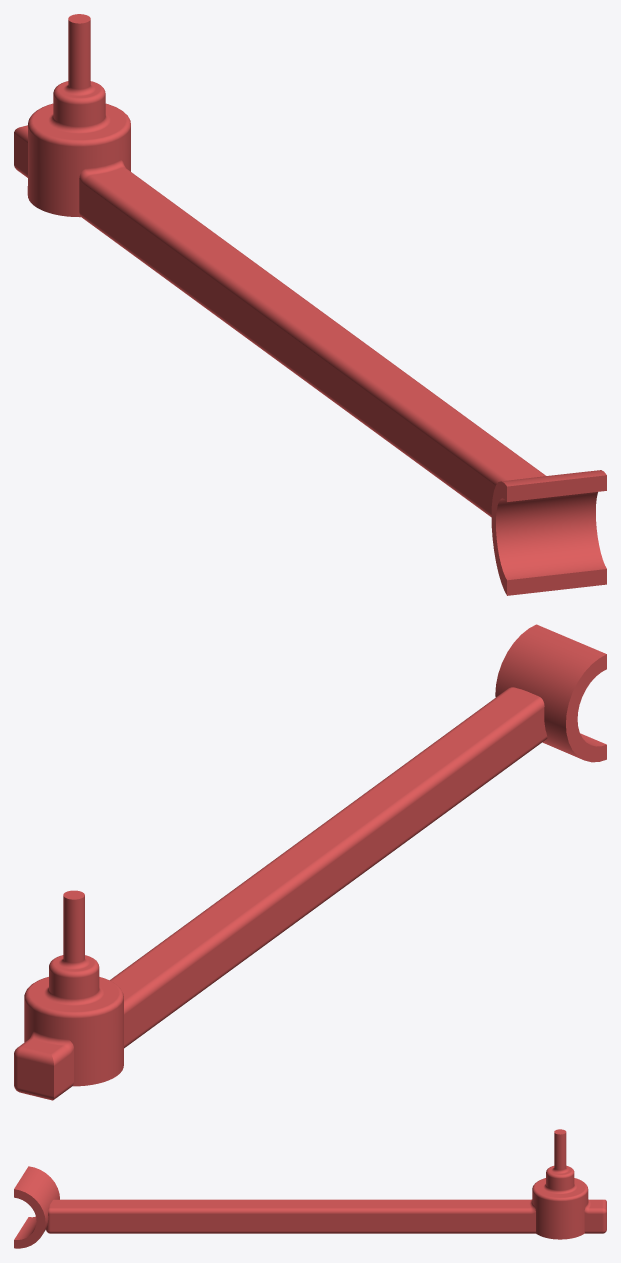
File: lever arm.fbx
The picture shows the model from 3 angles, top to bottom: view 1: azimuth 30°, elevation 25°; view 2: azimuth 150°, elevation 25°; view 3: azimuth 270°, elevation 25°; orthographic projection. The views are drawn at different scales.
Visible parts, largest first — view 1: Body1; view 2: Body1; view 3: Body1.
Part boxes in pixels (bbox=[...]): Body1: bbox=[14, 14, 606, 595]; Body1: bbox=[14, 624, 606, 1100]; Body1: bbox=[14, 1129, 606, 1248].
Bounding box in the file's own units: 0.0719 × 0.13 × 0.6342.
